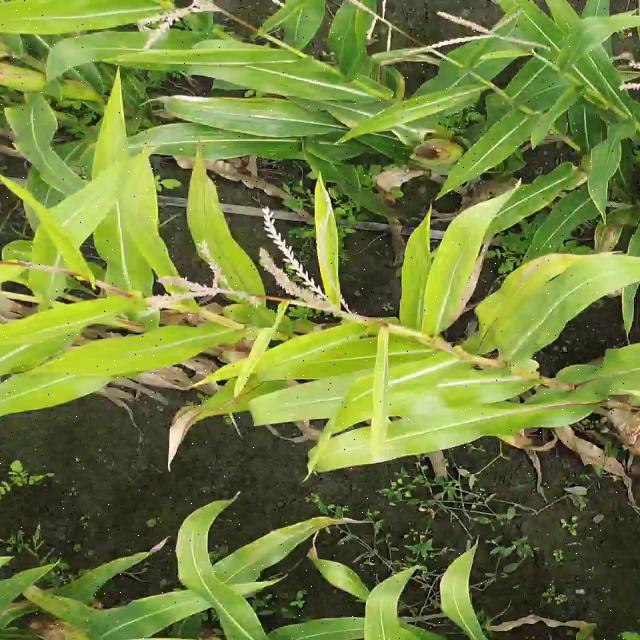gray-leaf-spot: (198, 100, 280, 129), (254, 142, 295, 158)
northern-leaf-blight: (512, 251, 568, 288), (598, 210, 625, 250)
